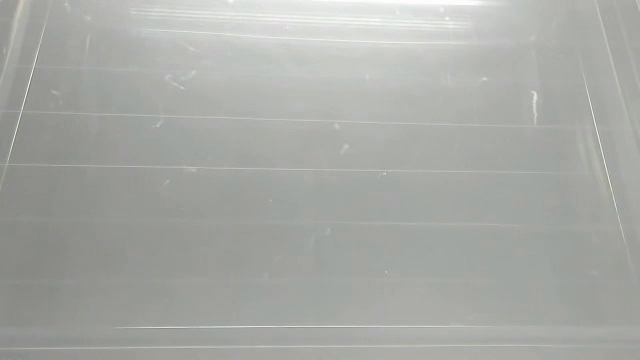alpha: (525, 87, 544, 129)
